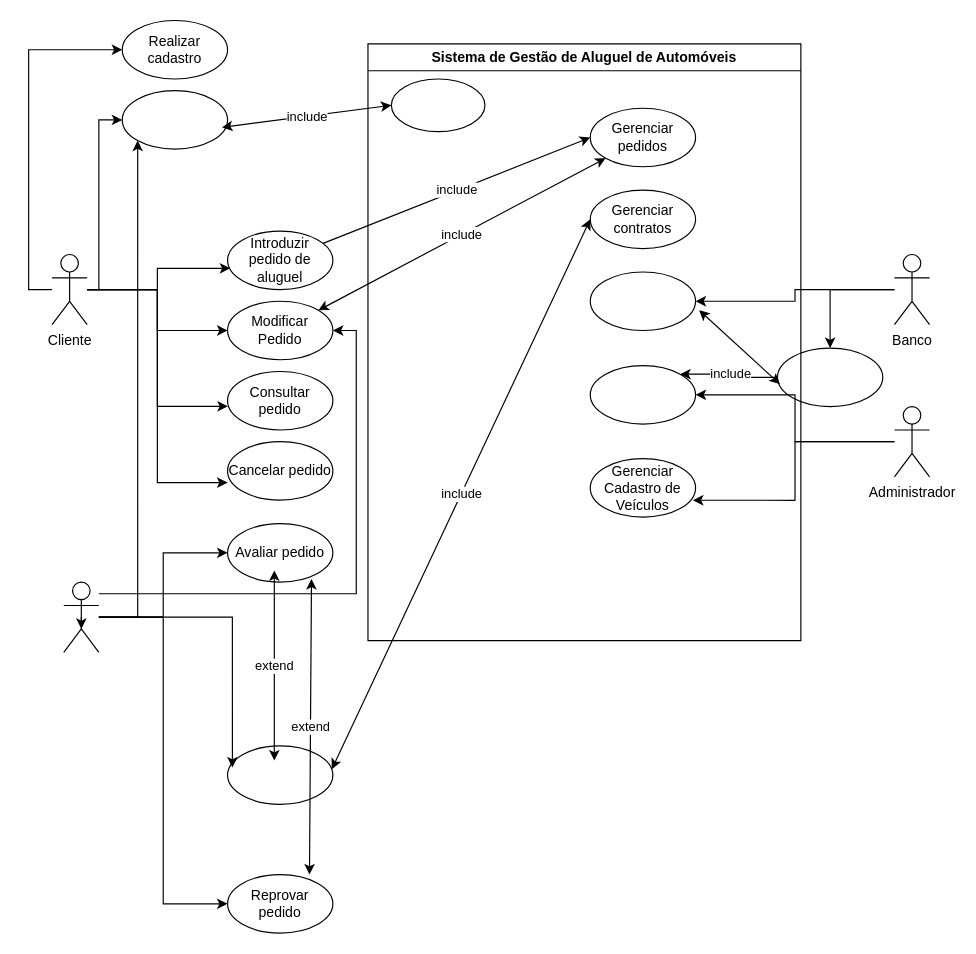
This 976x954 diagram has some shape labels left out. Here are the shapes that lost their labels. From the top down, the centre of each, then its label:
At [174,119]: "Realizar login".
At [437,105]: "Validar Login".
At [642,301]: "Associar credito ao Aluguel".
At [642,394]: "Armazenar dados do cliente".
At [829,377]: "Conceder credito".
At [81,616]: "Agente".
At [279,774]: "Aprovar pedido".
